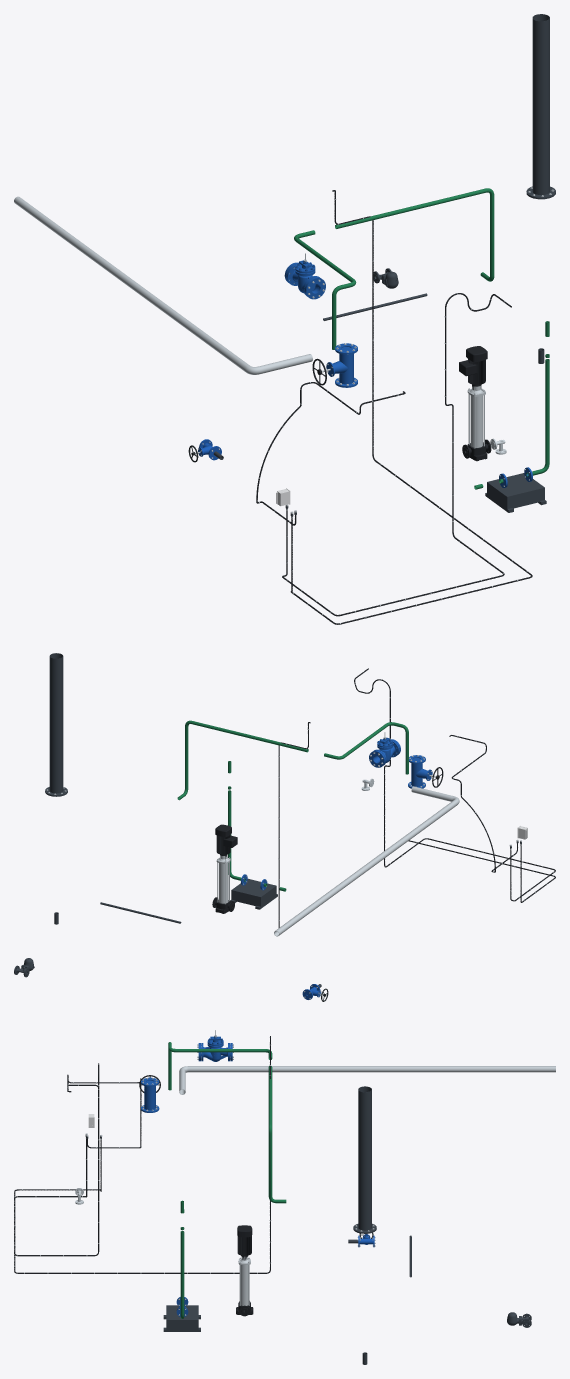
The picture shows the model from 3 angles, top to bottom: view 1: azimuth 30°, elevation 25°; view 2: azimuth 150°, elevation 25°; view 3: azimuth 270°, elevation 25°; orthographic projection. The views are drawn at different scales.
Visible parts, largest first — view 1: bdv_vent / dark, safety_vent_1 / steel, mod_direct_drive_cable / black, pump_branch_1 / dark, wiring_pressure_switch_1 / black, to_direct / green, steam_manual / blue, direct_inlet / green, pump_2 CAD solid 15, pump_branch_1 / green; view 2: bdv_vent / dark, safety_vent_1 / steel, pump_branch_1 / dark, mod_direct_drive_cable / black, wiring_pressure_switch_1 / black, to_direct / green, direct_inlet / green, steam_manual / blue, pump_2 CAD solid 15, gpz CAD solid 0; view 3: safety_vent_1 / steel, bdv_vent / dark, wiring_pressure_switch_1 / black, mod_direct_drive_cable / black, pump_branch_1 / dark, to_direct / green, direct_inlet / green, pump_branch_1 / green, steam_manual / blue, gpz CAD solid 0, pump_2 CAD solid 15.
Part boxes in pixels (x1,y1,x2,y2): bdv_vent / dark: (526, 14, 555, 199); safety_vent_1 / steel: (14, 196, 312, 374); mod_direct_drive_cable / black: (290, 190, 532, 624); pump_branch_1 / dark: (485, 473, 546, 512); wiring_pressure_switch_1 / black: (282, 293, 511, 616); to_direct / green: (335, 188, 494, 281); steam_manual / blue: (326, 343, 357, 387); direct_inlet / green: (294, 230, 356, 349); pump_2 CAD solid 15: (459, 346, 487, 385); pump_branch_1 / green: (474, 321, 549, 489); bdv_vent / dark: (45, 653, 67, 796); safety_vent_1 / steel: (274, 786, 459, 936); pump_branch_1 / dark: (230, 878, 277, 909); mod_direct_drive_cable / black: (278, 722, 555, 927); wiring_pressure_switch_1 / black: (354, 668, 555, 901); to_direct / green: (177, 720, 308, 800); direct_inlet / green: (324, 722, 408, 774); steam_manual / blue: (408, 755, 432, 788); pump_2 CAD solid 15: (215, 824, 237, 855); gpz CAD solid 0: (374, 732, 399, 764); safety_vent_1 / steel: (179, 1066, 555, 1094); bdv_vent / dark: (353, 1086, 376, 1233); wiring_pressure_switch_1 / black: (14, 1063, 101, 1256); mod_direct_drive_cable / black: (14, 1036, 270, 1273); pump_branch_1 / dark: (163, 1305, 200, 1331); to_direct / green: (268, 1066, 286, 1203); direct_inlet / green: (168, 1042, 272, 1090); pump_branch_1 / green: (180, 1200, 184, 1318); steam_manual / blue: (141, 1077, 159, 1112); gpz CAD solid 0: (201, 1030, 230, 1061); pump_2 CAD solid 15: (237, 1225, 252, 1256).
Size of the model in its own units: 4.96 by 3.85 by 6.53.
